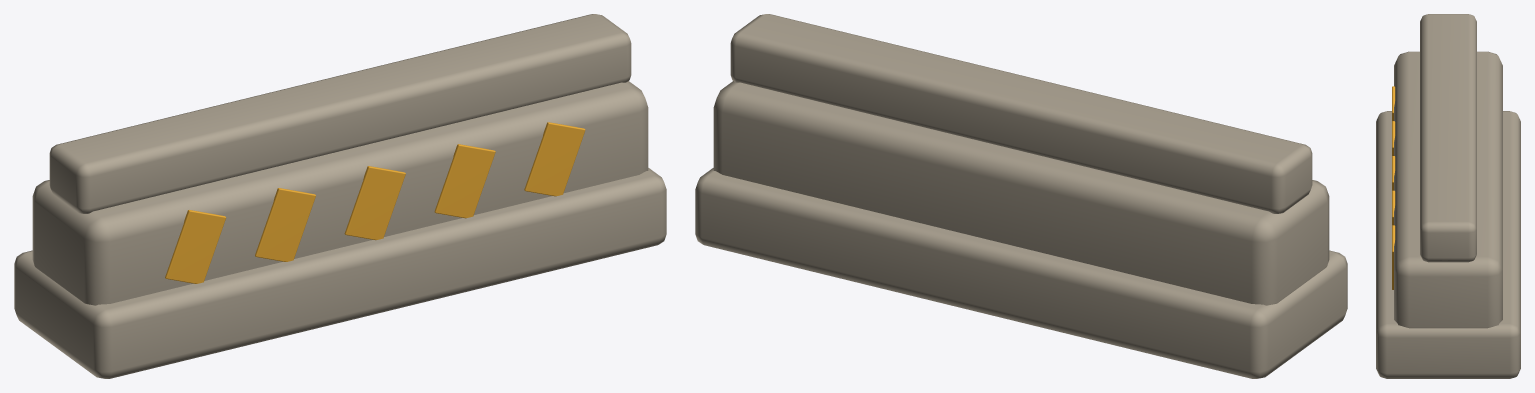
The model's file is traffic_barrier.glb.
3 renders of one model, left to right at view 1: azimuth 30°, elevation 25°; view 2: azimuth 150°, elevation 25°; view 3: azimuth 270°, elevation 25°, orthographic. The views are drawn at different scales.
Visible parts, largest first — view 1: Concrete foot, Tapered body, Crest, Safety stripe.003, Safety stripe.004, Safety stripe, Safety stripe.002, Safety stripe.001; view 2: Tapered body, Concrete foot, Crest; view 3: Tapered body, Concrete foot, Crest, Safety stripe.004.
Boxes of the visible parts, box(x1,y1,x2,y2) form: Concrete foot: box(14, 168, 666, 378); Tapered body: box(32, 81, 648, 305); Crest: box(49, 14, 631, 213); Safety stripe.003: box(434, 144, 495, 218); Safety stripe.004: box(524, 122, 585, 196); Safety stripe: box(165, 210, 226, 283); Safety stripe.002: box(344, 166, 405, 240); Safety stripe.001: box(255, 188, 315, 261); Tapered body: box(713, 81, 1329, 305); Concrete foot: box(695, 168, 1347, 378); Crest: box(730, 14, 1312, 213); Tapered body: box(1394, 51, 1502, 328); Concrete foot: box(1376, 111, 1520, 378); Crest: box(1420, 14, 1476, 262); Safety stripe.004: box(1392, 225, 1395, 289).
Size of the model in its own units: 2.93 by 0.955 by 0.81.
